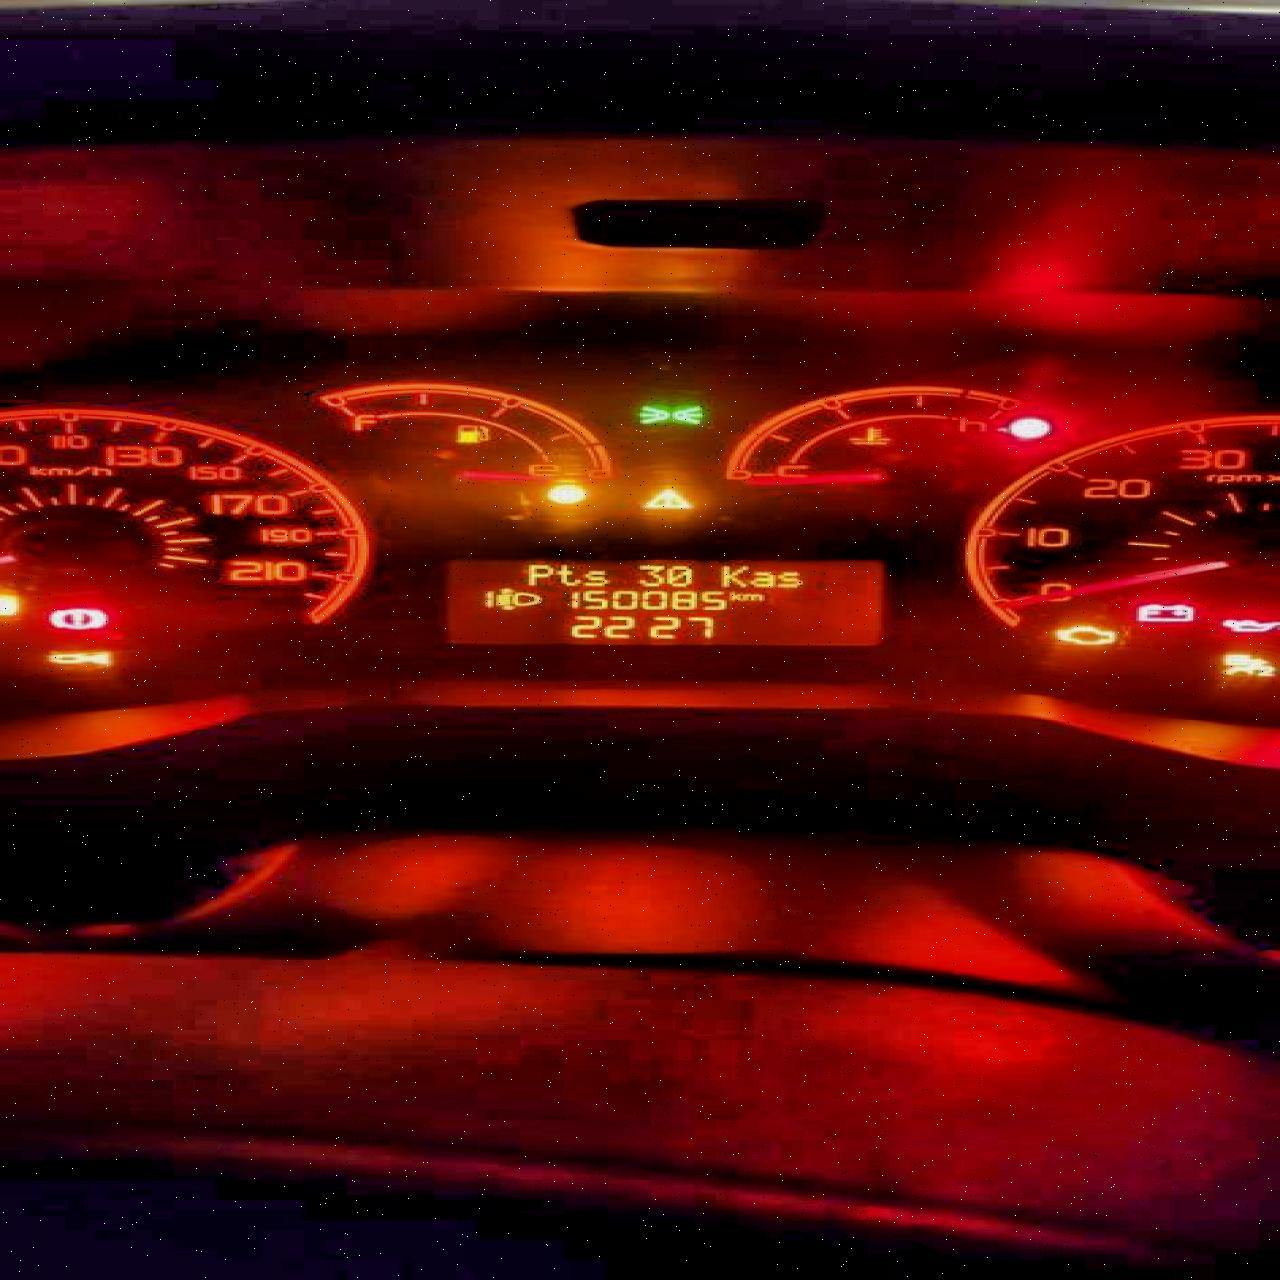0: (665, 564, 694, 586), (610, 588, 636, 610), (640, 588, 667, 610)
1: (564, 588, 578, 610), (481, 587, 493, 608)
2: (570, 613, 599, 638), (602, 613, 632, 638), (648, 613, 678, 638)
3: (634, 563, 661, 586)
5: (580, 587, 607, 608), (700, 590, 724, 610)
7: (683, 613, 716, 639)
8: (669, 588, 694, 610)
X: (719, 564, 745, 587), (524, 563, 551, 585), (551, 563, 578, 585), (578, 567, 607, 586), (772, 568, 799, 587), (748, 568, 772, 586), (741, 591, 764, 600), (727, 590, 741, 600)
odometer: (434, 554, 898, 649)
